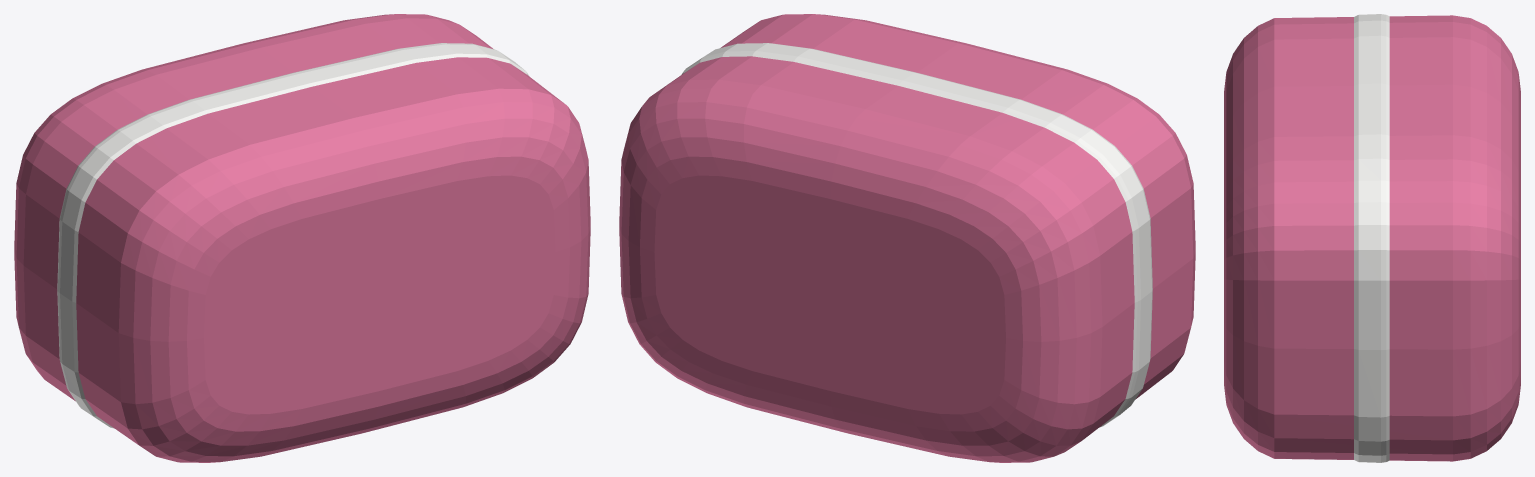
The model's file is absorventes_pacote.obj.
3 views of the same model, side by side, from view 1: azimuth 30°, elevation 25°; view 2: azimuth 150°, elevation 25°; view 3: azimuth 270°, elevation 25° (orthographic). The views are drawn at different scales.
Visible parts, largest first — view 1: absorventes_pacote_pacote, absorventes_pacote_faixa; view 2: absorventes_pacote_pacote, absorventes_pacote_faixa; view 3: absorventes_pacote_pacote, absorventes_pacote_faixa.
Boxes of the visible parts, x1,y1,x2,y2 form: absorventes_pacote_pacote: [14, 14, 590, 462]; absorventes_pacote_faixa: [57, 43, 529, 428]; absorventes_pacote_pacote: [619, 14, 1195, 462]; absorventes_pacote_faixa: [681, 43, 1152, 427]; absorventes_pacote_pacote: [1224, 15, 1520, 461]; absorventes_pacote_faixa: [1354, 14, 1389, 462].
Size of the model in its own units: 125 by 80.6 by 70.
